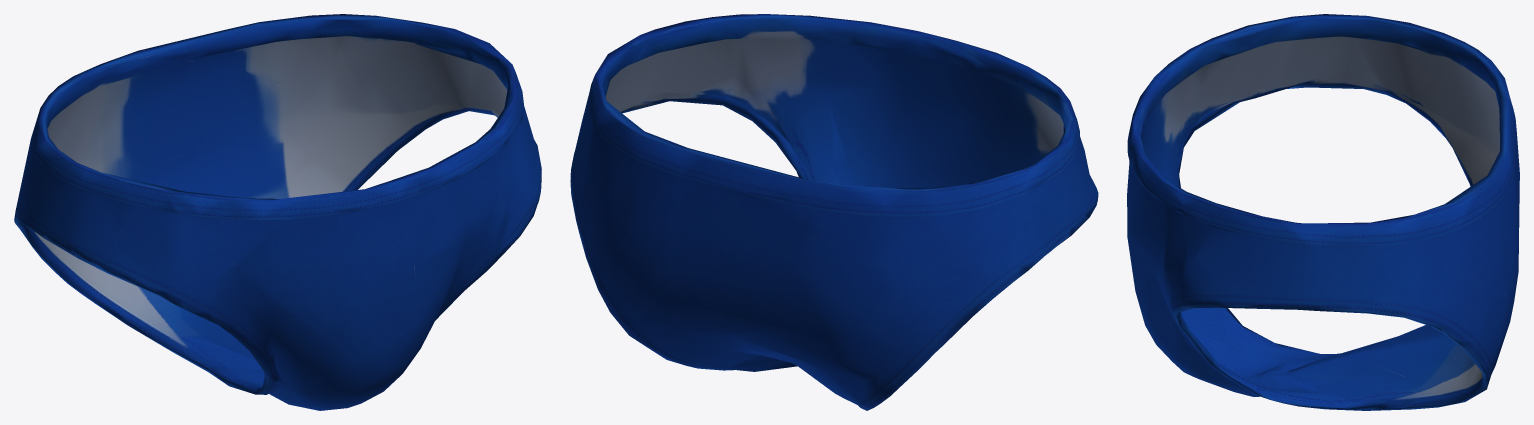
Rendered from Meshy_AI_Blue_Swim_Briefs_20261124_texture.fbx.
3 views of the same model, side by side, from view 1: azimuth 30°, elevation 25°; view 2: azimuth 150°, elevation 25°; view 3: azimuth 270°, elevation 25° (orthographic).
Parts seen in each view (by area): view 1: Mesh_0; view 2: Mesh_0; view 3: Mesh_0.
Boxes of the visible parts, x1,y1,x2,y2 form: Mesh_0: [14, 14, 541, 410]; Mesh_0: [570, 14, 1098, 410]; Mesh_0: [1127, 14, 1519, 410].
Bounding box in the file's own units: 45.91 × 25 × 33.48.
Materials: 1 (1 with a texture image).
